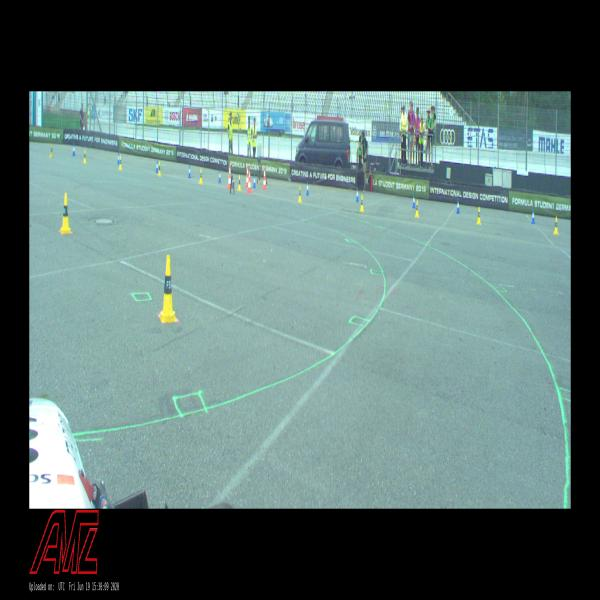blue_cone: (532, 208, 536, 224), (456, 199, 460, 213), (218, 169, 222, 183), (412, 194, 416, 208), (356, 187, 359, 202), (306, 181, 309, 195), (253, 174, 256, 188), (72, 143, 75, 156), (188, 165, 191, 178), (117, 153, 120, 164), (156, 160, 158, 173)
large_orange_cone: (227, 163, 232, 189), (247, 170, 251, 193), (262, 167, 266, 190), (245, 165, 248, 187)
yellow_cone: (159, 255, 177, 322), (60, 193, 72, 234), (360, 194, 364, 212), (157, 162, 162, 176), (477, 207, 481, 224), (415, 200, 419, 217), (554, 217, 558, 234), (199, 168, 203, 184), (298, 186, 302, 202), (118, 155, 122, 170), (238, 175, 241, 190), (50, 143, 53, 158), (84, 149, 86, 164)
